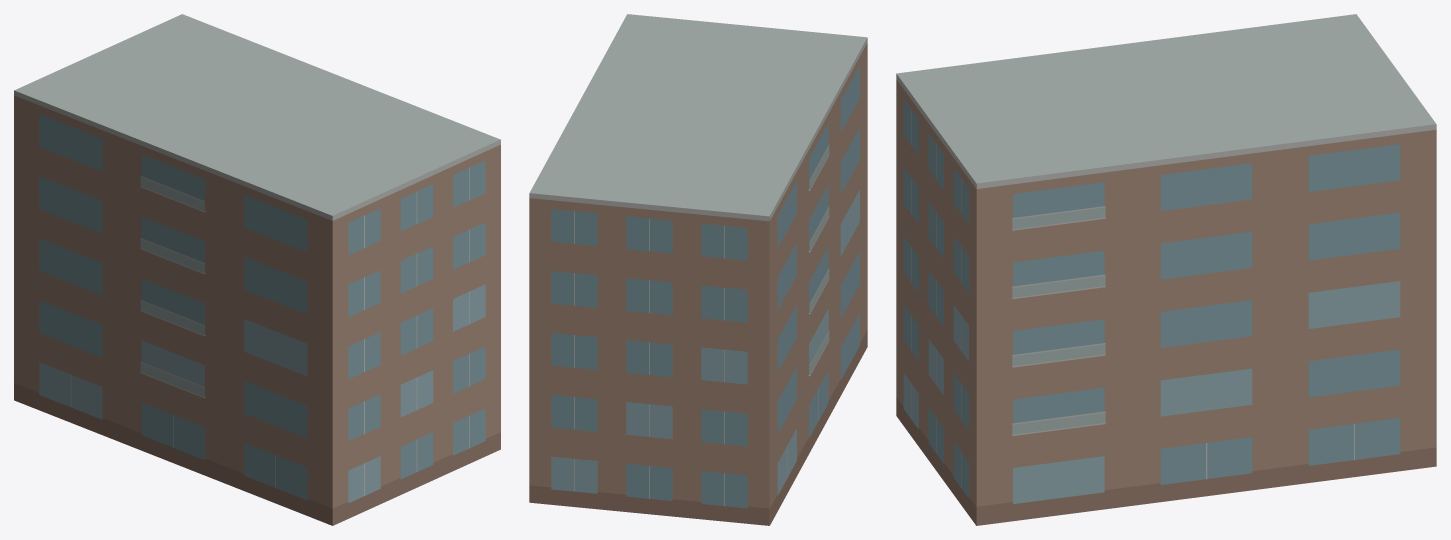
File: survey-upis-32752207.glb
The picture shows the model from 3 angles, left to right: view 1: azimuth 30°, elevation 25°; view 2: azimuth 150°, elevation 25°; view 3: azimuth 270°, elevation 25°; orthographic projection. The views are drawn at different scales.
Visible parts, largest first — view 1: survey-upis-32752207.tmp; view 2: survey-upis-32752207.tmp; view 3: survey-upis-32752207.tmp.
Boxes of the visible parts, box(x1,y1,x2,y2) form: survey-upis-32752207.tmp: box(14, 14, 500, 525); survey-upis-32752207.tmp: box(529, 14, 867, 525); survey-upis-32752207.tmp: box(896, 14, 1436, 525).
Size of the model in its own units: 16.21 by 15.25 by 21.82.
